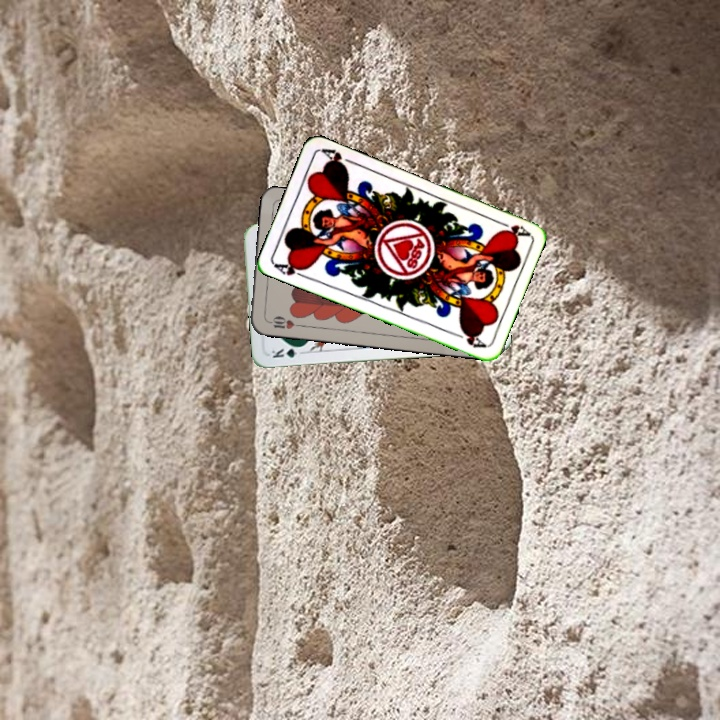GK: (267, 342, 306, 361)
H10: (263, 312, 303, 331)
HA: (271, 257, 311, 281), (492, 216, 531, 240)
